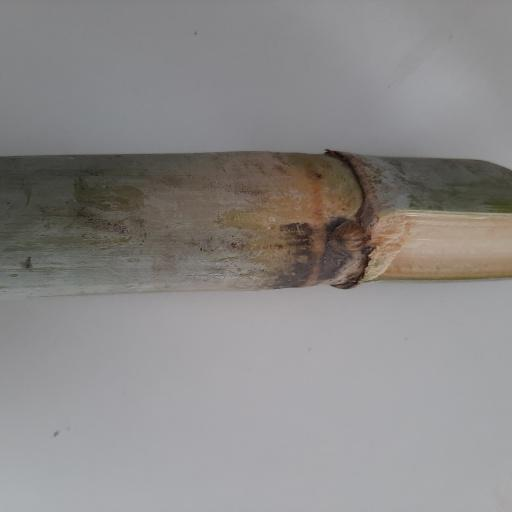Bud: (328, 222, 369, 252)
